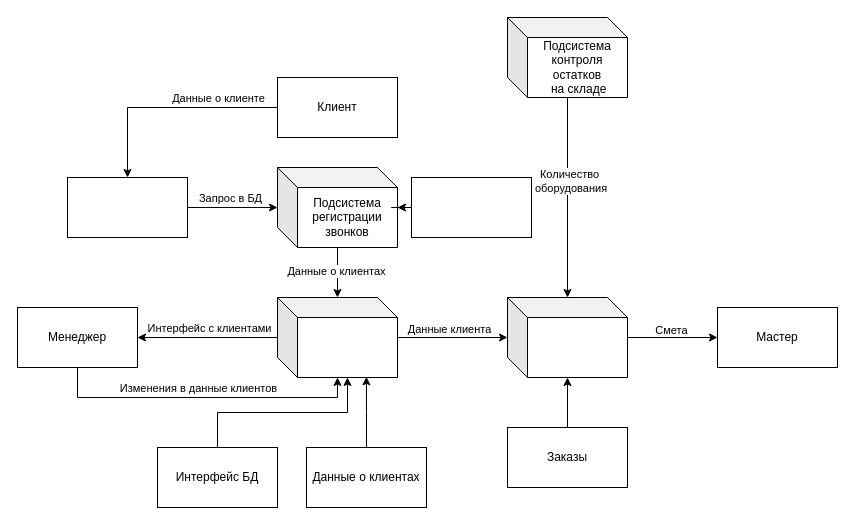
This 855x525 diagram has some shape labels left out. Here are the shapes that lost their labels. From the top down, the centre of each, then its label:
At pixel 127 207: "Секретарь".
At pixel 471 207: "Интерфейс регистрации".
At pixel 337 337: "Подсистема хранения информации о клиенте".
At pixel 567 337: "Подсистема задач по заказам клиентов".
